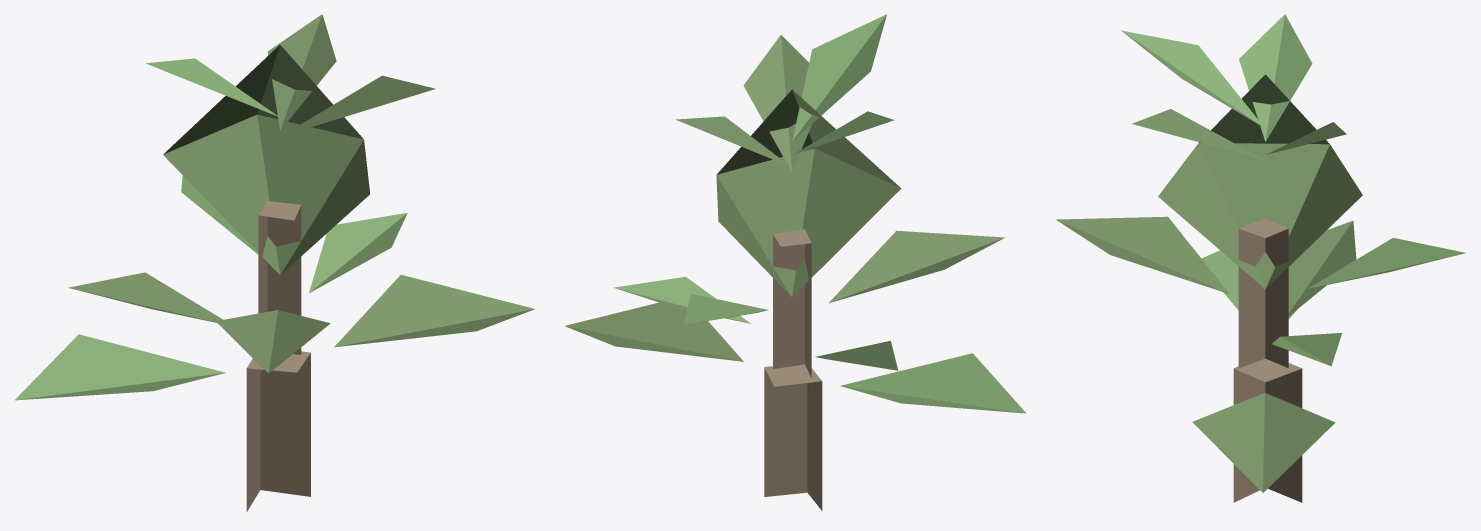
The model's file is cao.luwei@seedling__bloom.glb.
3 renders of one model, left to right at view 1: azimuth 30°, elevation 25°; view 2: azimuth 150°, elevation 25°; view 3: azimuth 270°, elevation 25°, orthographic. The views are drawn at different scales.
Visible parts, largest first — view 1: cao.luwei@seedling__bloom; view 2: cao.luwei@seedling__bloom; view 3: cao.luwei@seedling__bloom.
Boxes of the visible parts, left/top/right/bottom form: cao.luwei@seedling__bloom: left=15, top=14, right=534, bottom=511; cao.luwei@seedling__bloom: left=565, top=14, right=1026, bottom=510; cao.luwei@seedling__bloom: left=1056, top=14, right=1465, bottom=502.
Bounding box in the file's own units: 0.2578 × 0.235 × 0.1904.
